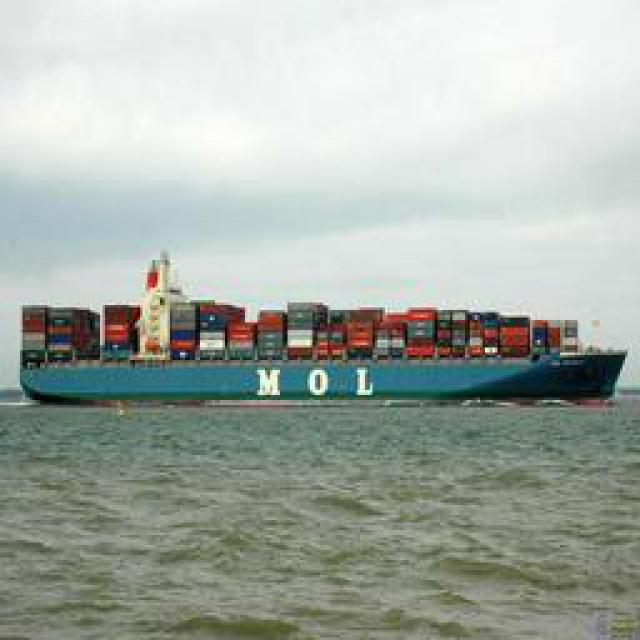Ship: (16, 271, 624, 409)
